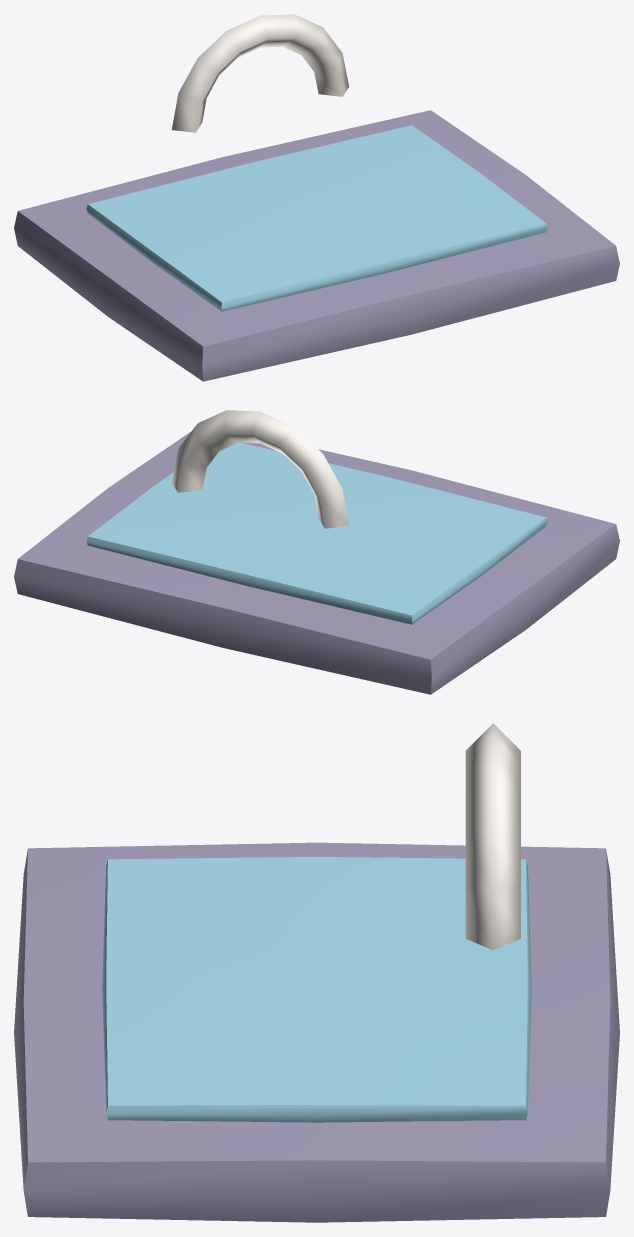
File: sink.glb
The picture shows the model from 3 angles, top to bottom: view 1: azimuth 30°, elevation 25°; view 2: azimuth 150°, elevation 25°; view 3: azimuth 270°, elevation 25°; orthographic projection. The views are drawn at different scales.
Parts seen in each view (by area): view 1: part (×2), faucet; view 2: part (×2), faucet; view 3: part (×2), faucet.
Part boxes in pixels (<box>): part (×2): <box>14,110,619,381</box>; faucet: <box>171,14,348,132</box>; part (×2): <box>14,431,619,694</box>; faucet: <box>171,410,348,528</box>; part (×2): <box>14,842,619,1222</box>; faucet: <box>465,723,520,950</box>.
Size of the model in its own units: 0.7 by 0.335 by 0.55.
1 material, 1 textured.
